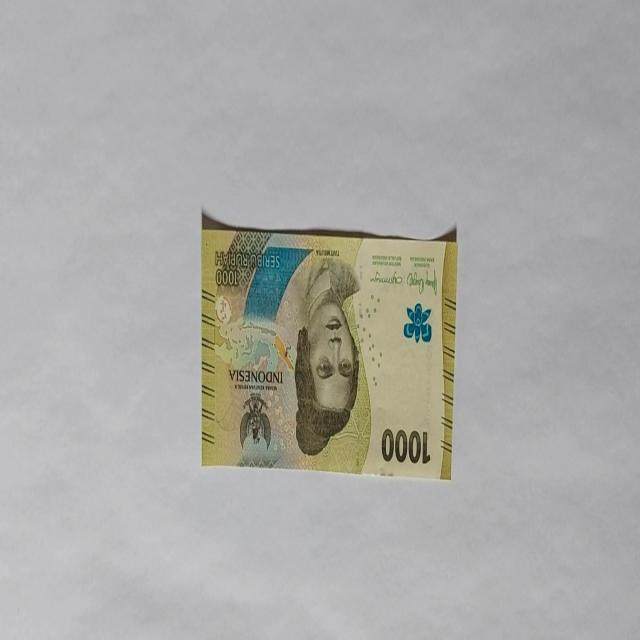seribu rupiah kertas: (200, 213, 458, 479)
